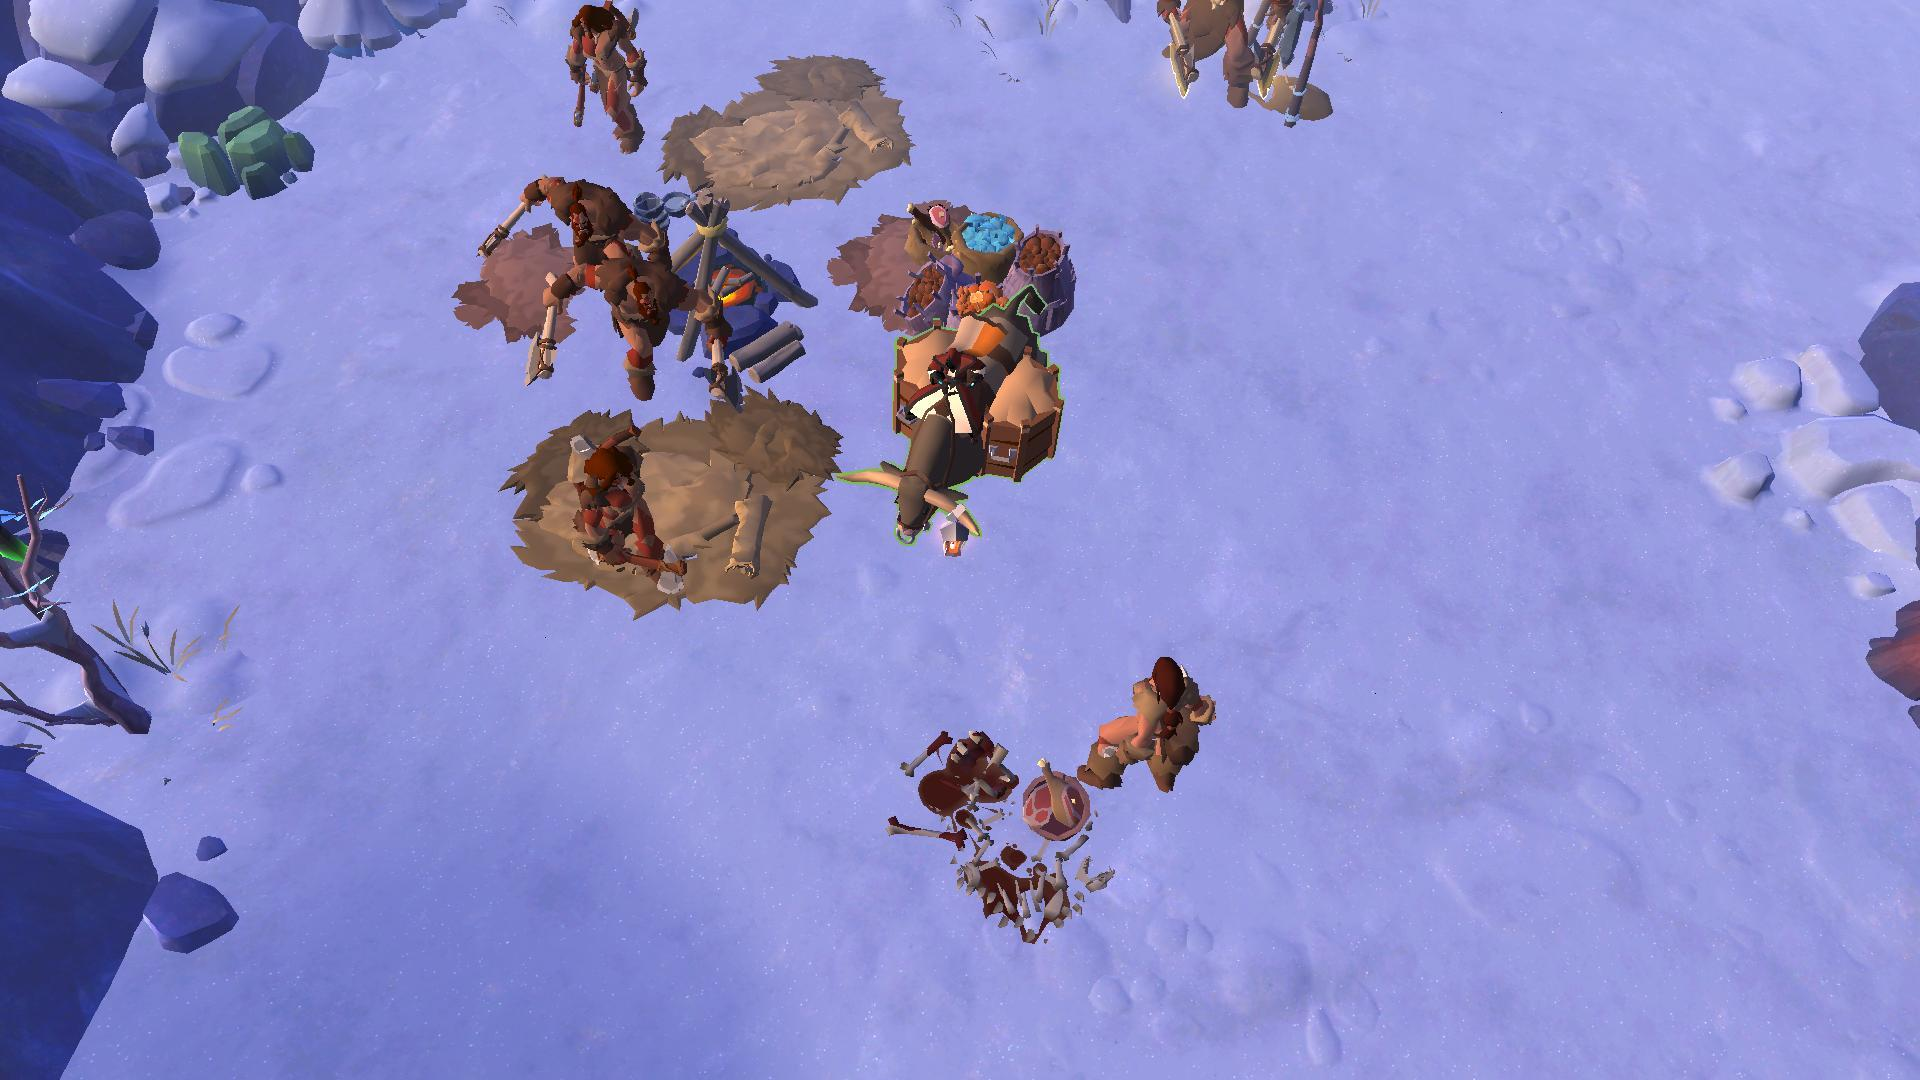enemy_factionKeeper: (568, 253, 725, 405), (517, 156, 666, 314), (1079, 646, 1213, 807), (551, 0, 653, 157), (1145, 0, 1269, 119)
rock_t3: (170, 95, 316, 207)
